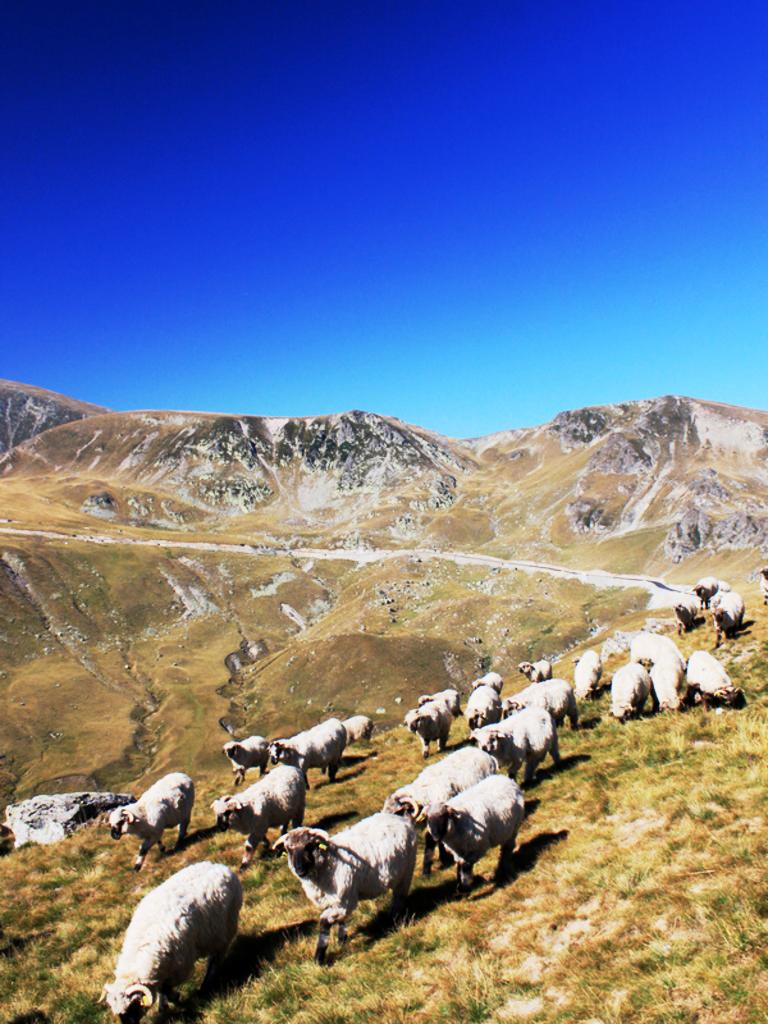Sheep: (90, 857, 241, 1024), (270, 812, 422, 962), (381, 745, 503, 871), (422, 776, 525, 896), (209, 765, 309, 868), (108, 769, 197, 872), (471, 708, 561, 787), (267, 715, 348, 792), (498, 680, 582, 734), (685, 649, 744, 707), (404, 703, 454, 757), (607, 663, 652, 722), (633, 631, 692, 675), (222, 736, 271, 784), (649, 653, 687, 713), (713, 592, 747, 646), (572, 649, 605, 702), (463, 687, 501, 733), (332, 712, 377, 746), (417, 689, 464, 720), (517, 659, 553, 689), (691, 576, 721, 612), (673, 596, 699, 637), (471, 670, 504, 698), (754, 562, 768, 605)
